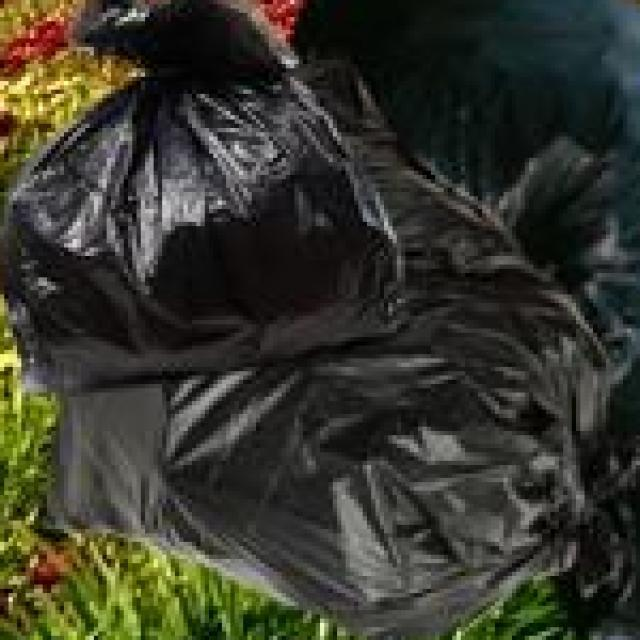Trashbag: (0, 33, 410, 402)
